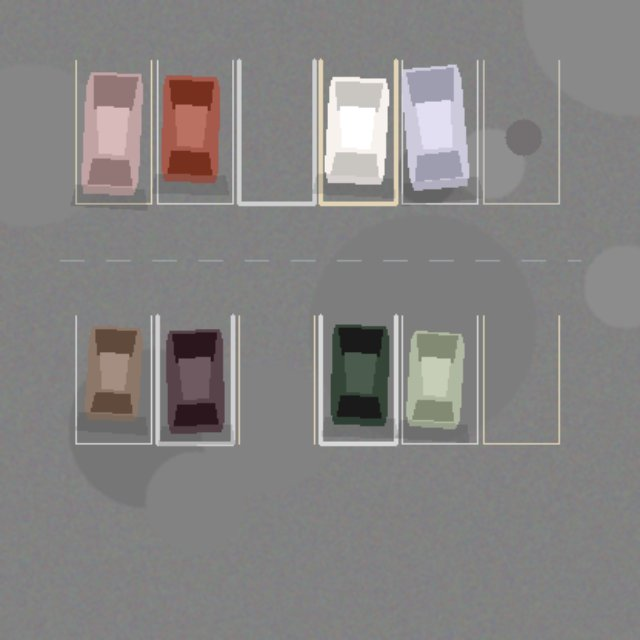space-empty: (238, 60, 314, 203), (483, 60, 558, 203), (238, 315, 314, 443), (483, 315, 558, 443)
space-occupied: (75, 60, 151, 203), (157, 60, 232, 203), (320, 60, 395, 203), (402, 60, 477, 203), (75, 315, 151, 443), (157, 315, 232, 443), (320, 315, 395, 443), (402, 315, 477, 443)
